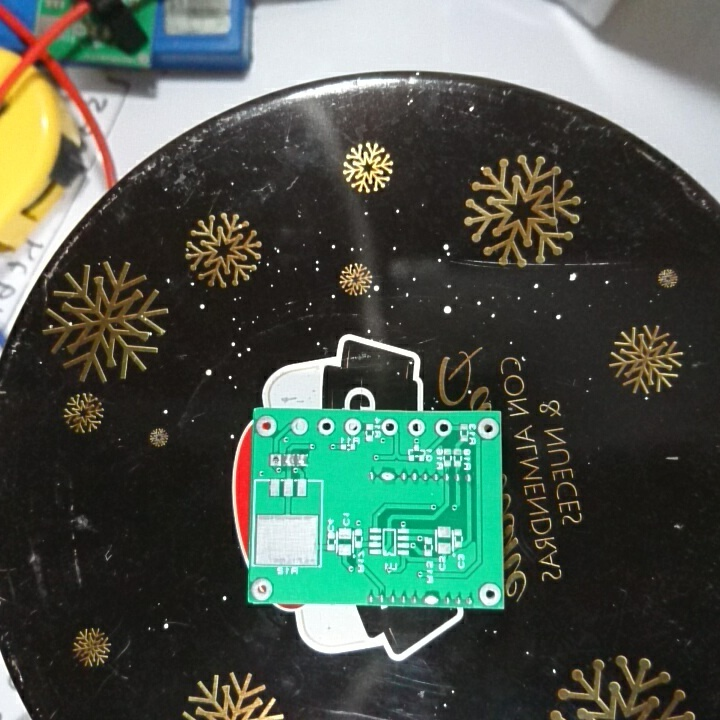F: (476, 580, 503, 608), (249, 575, 276, 603), (474, 415, 500, 443), (255, 415, 279, 440), (315, 414, 337, 438), (379, 415, 400, 440), (432, 418, 455, 439), (342, 417, 363, 437), (406, 418, 426, 438), (291, 415, 310, 436), (267, 452, 284, 469)
P: (378, 469, 398, 484), (422, 592, 442, 607)
